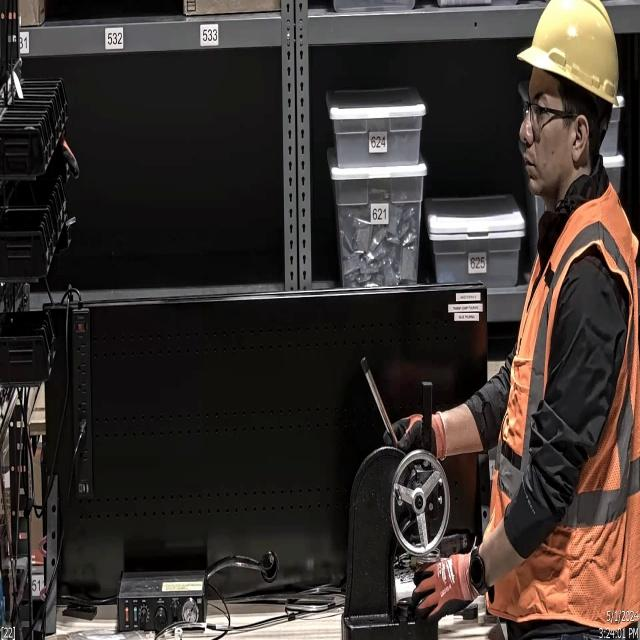construction-gloves: (411, 556, 476, 626)
